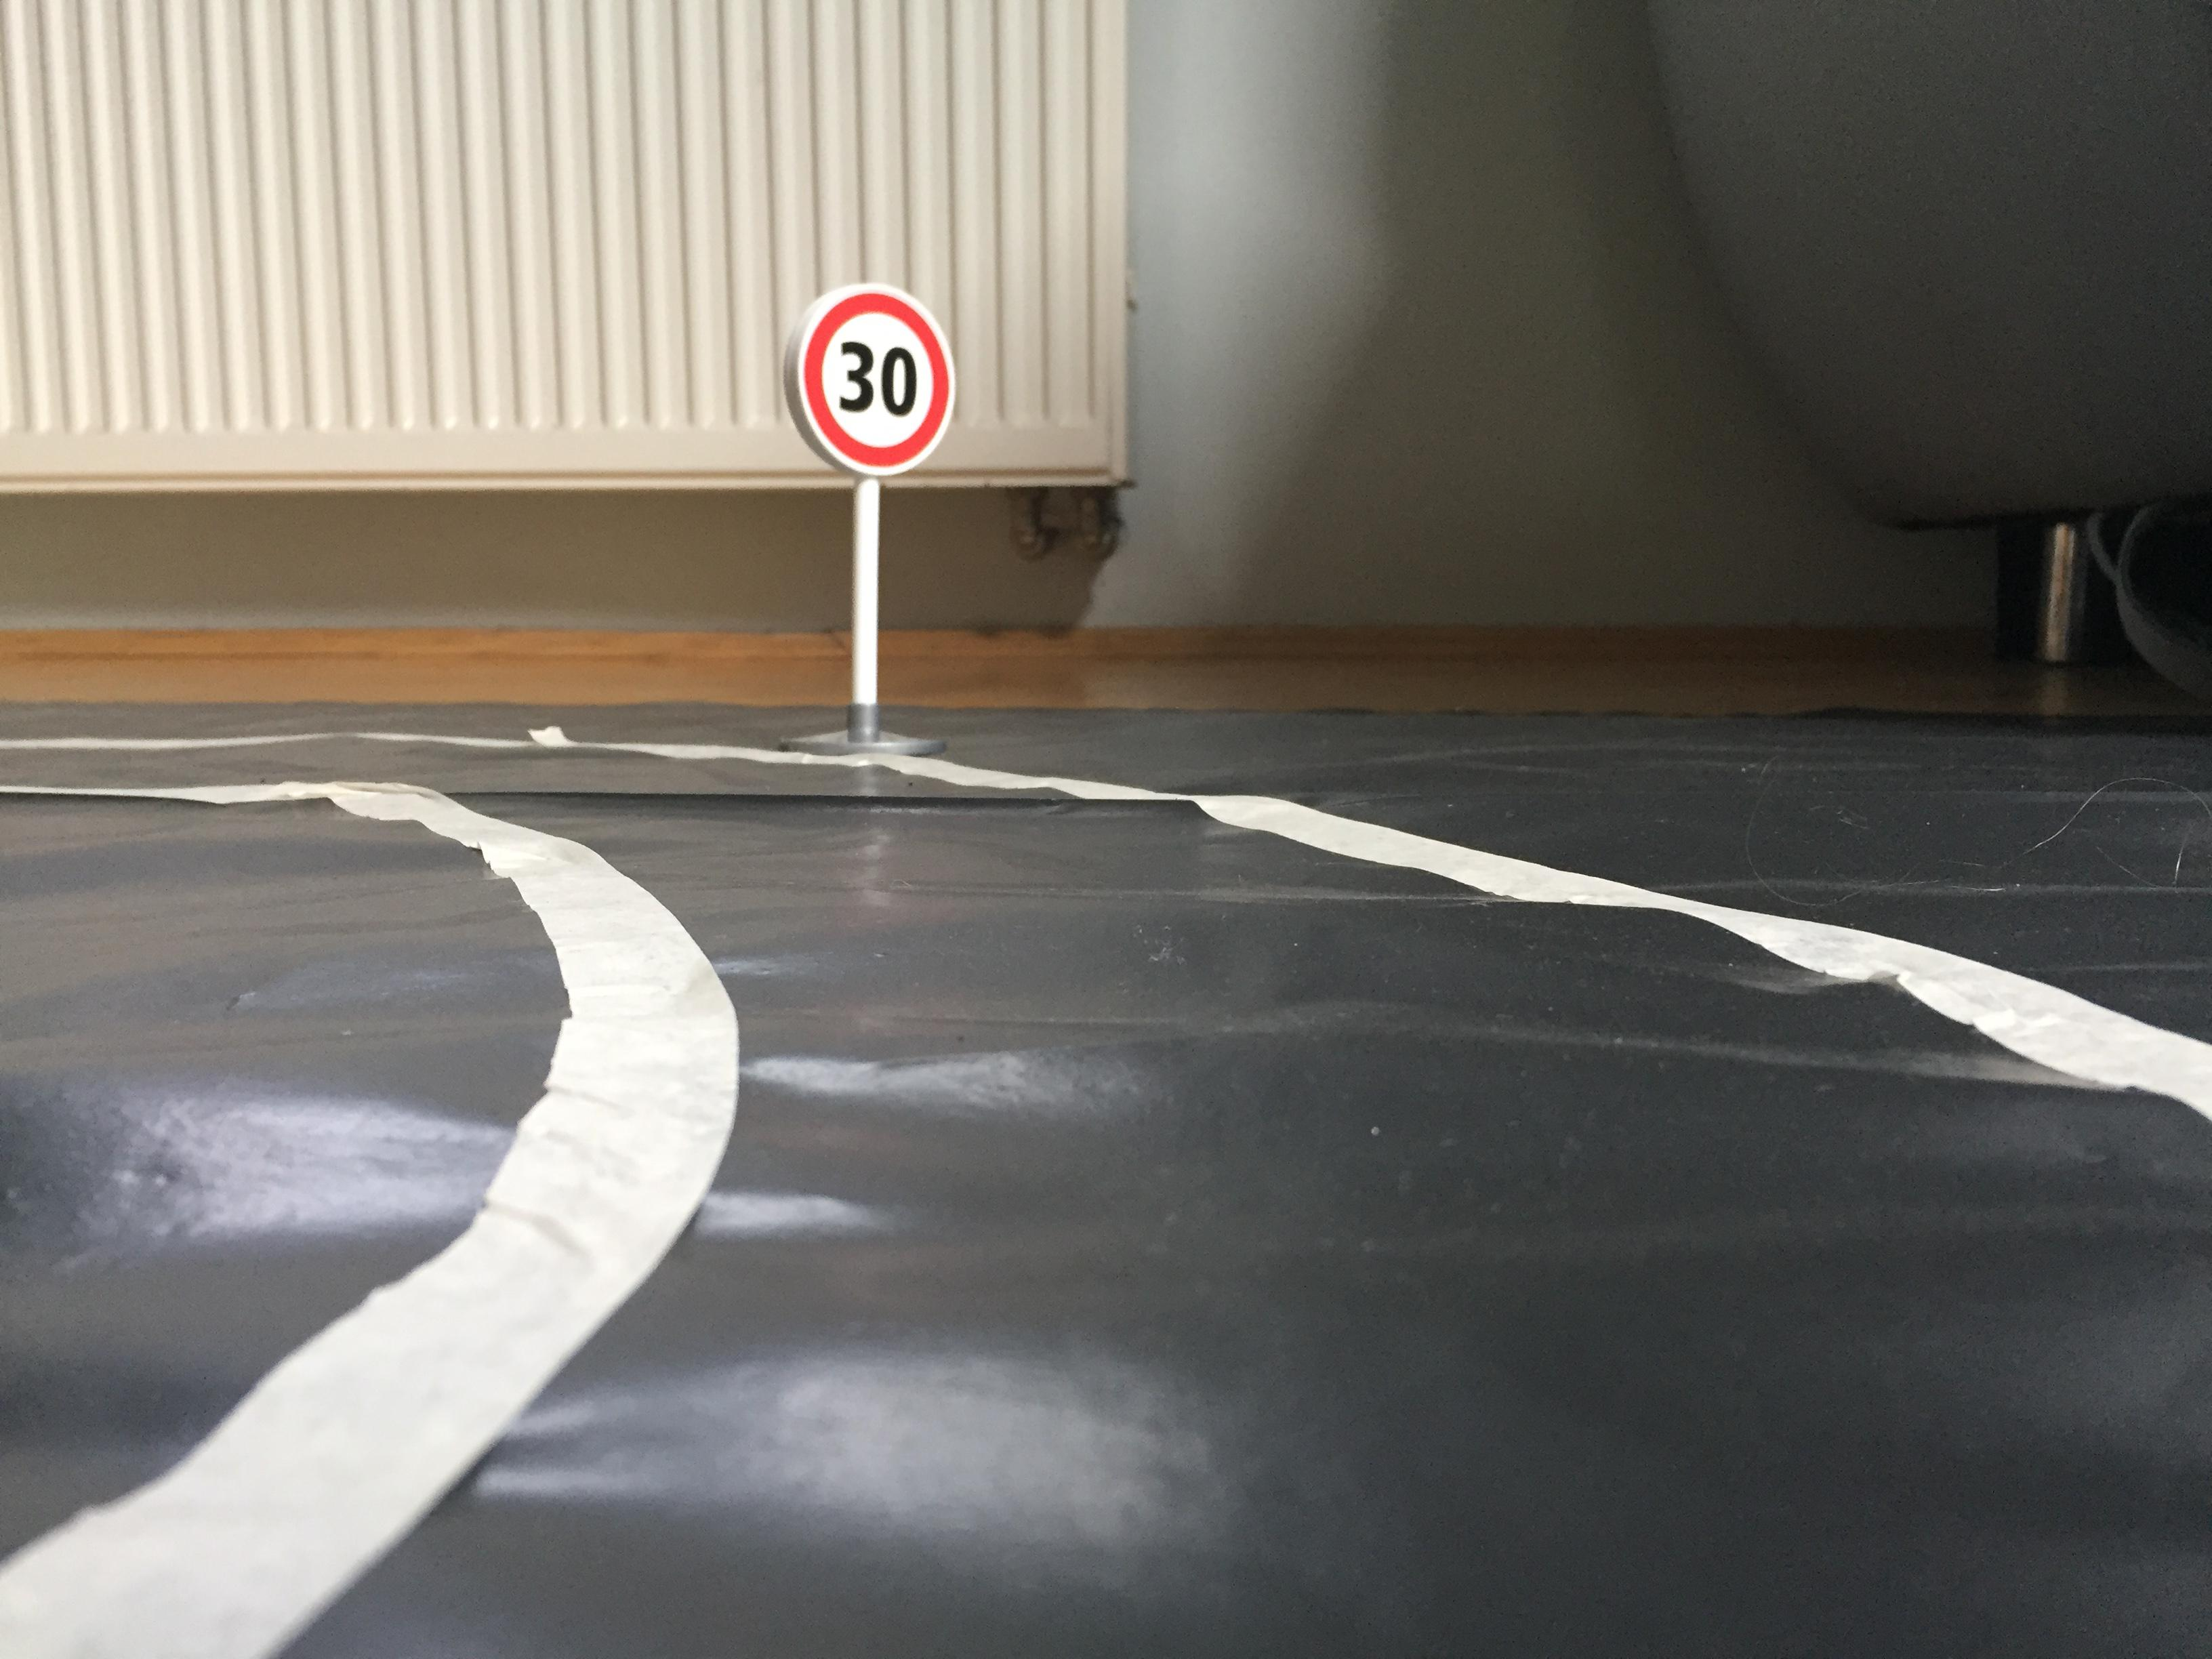speed: (779, 281, 968, 491)
